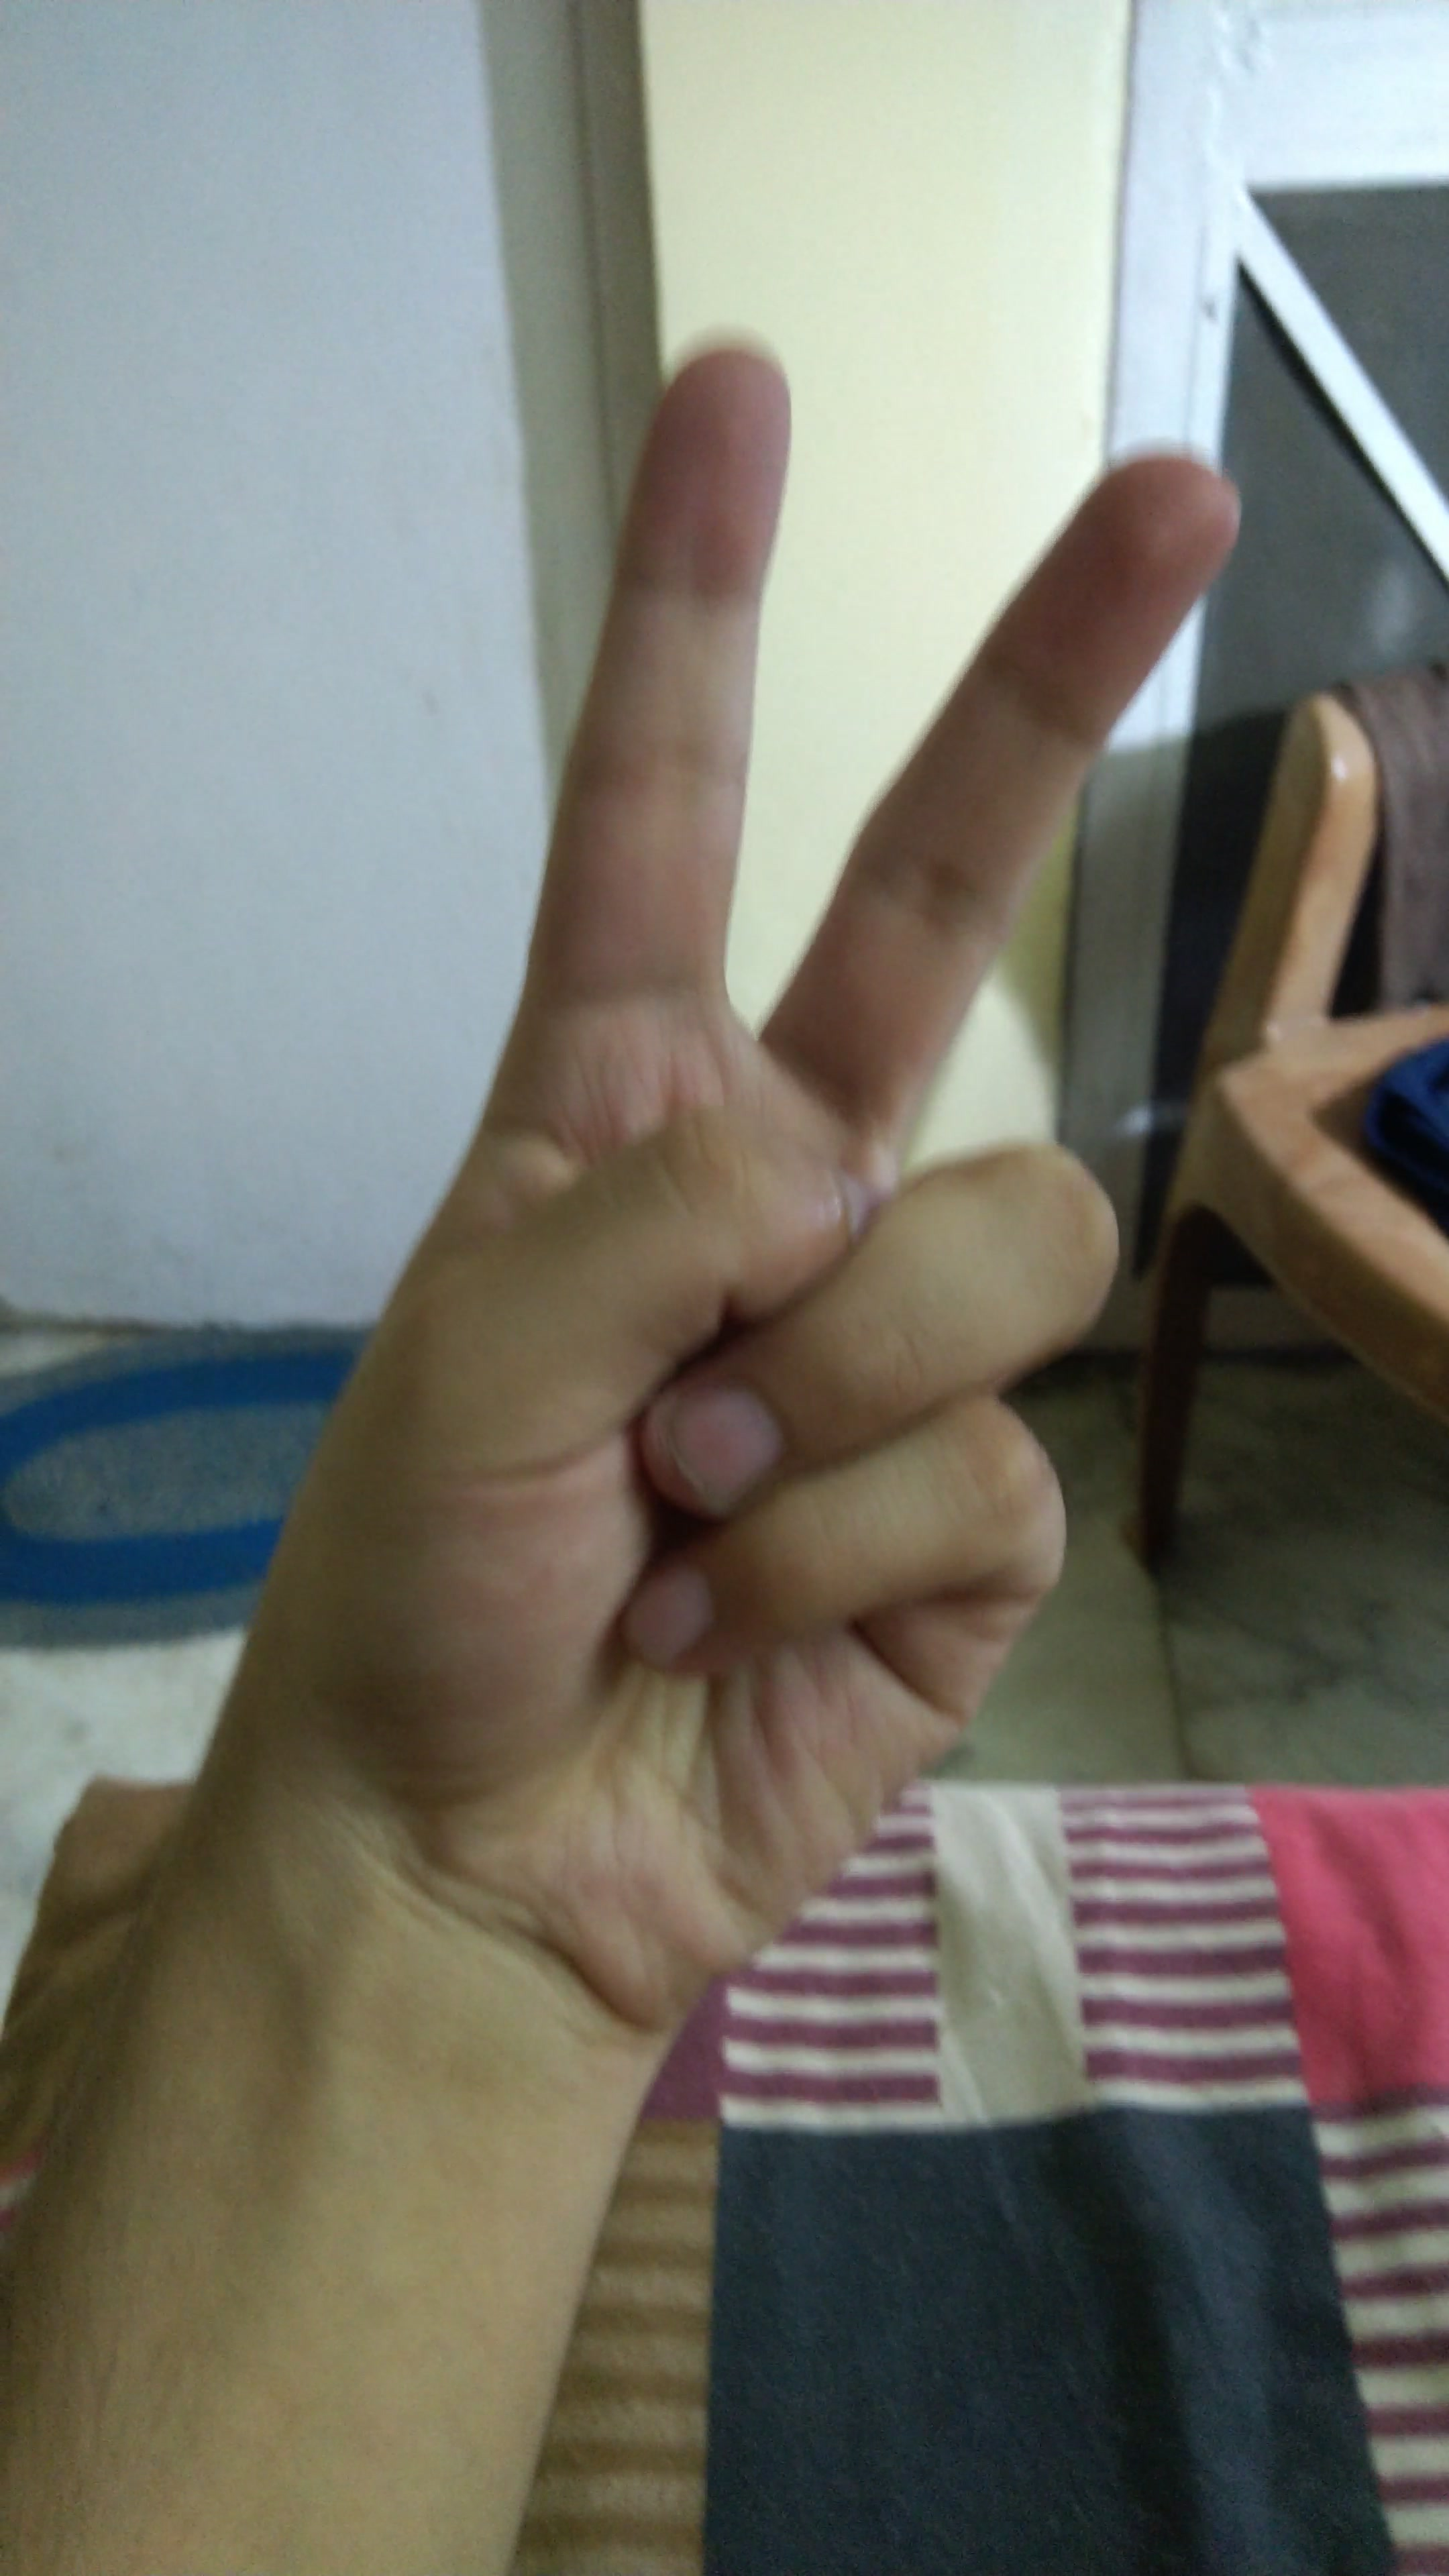hand: (124, 306, 1293, 2049)
